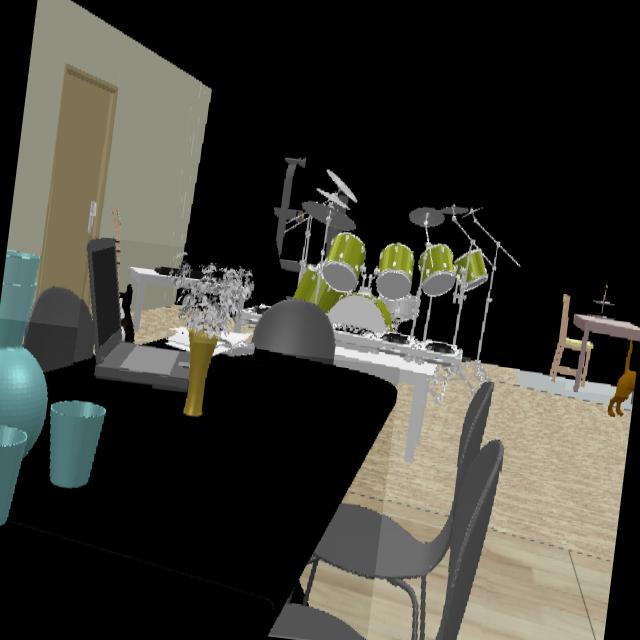chair: (270, 382, 503, 640), (549, 293, 581, 380), (580, 343, 591, 387)
laptop: (88, 238, 189, 390)
table: (0, 350, 397, 633), (573, 314, 640, 390)
